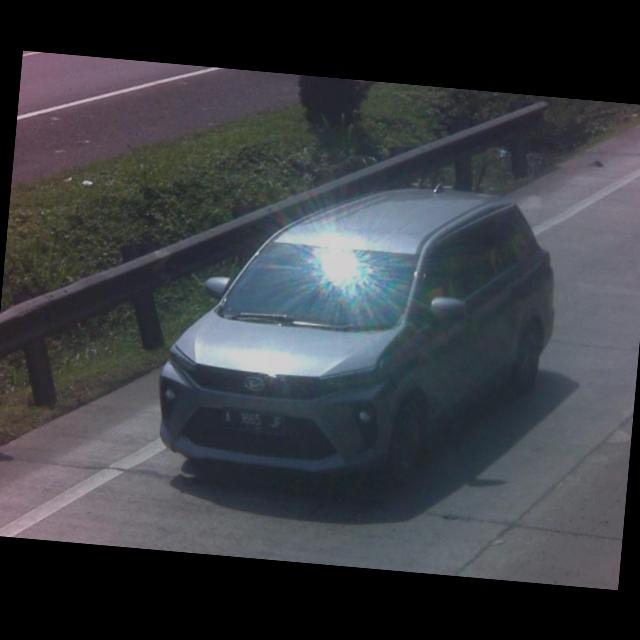plate: (220, 405, 286, 435)
